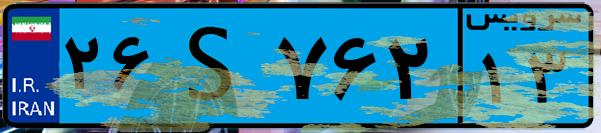1: (475, 38, 525, 113)
2: (385, 28, 445, 110), (57, 26, 110, 100)
3: (525, 38, 570, 115)
6: (330, 28, 385, 110), (110, 28, 158, 98)
7: (270, 28, 330, 110)
S: (158, 12, 270, 120)
